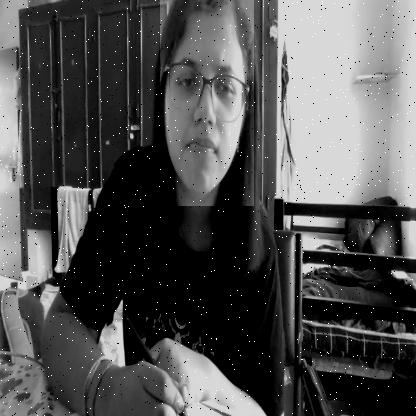Normal: (160, 0, 254, 206)
